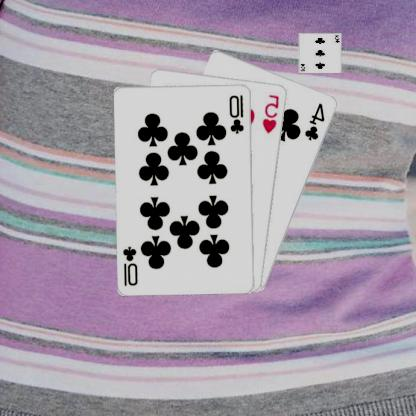10C: (122, 244, 141, 287), (229, 92, 247, 135)
4C: (304, 100, 328, 142)
5H: (262, 92, 282, 134)
